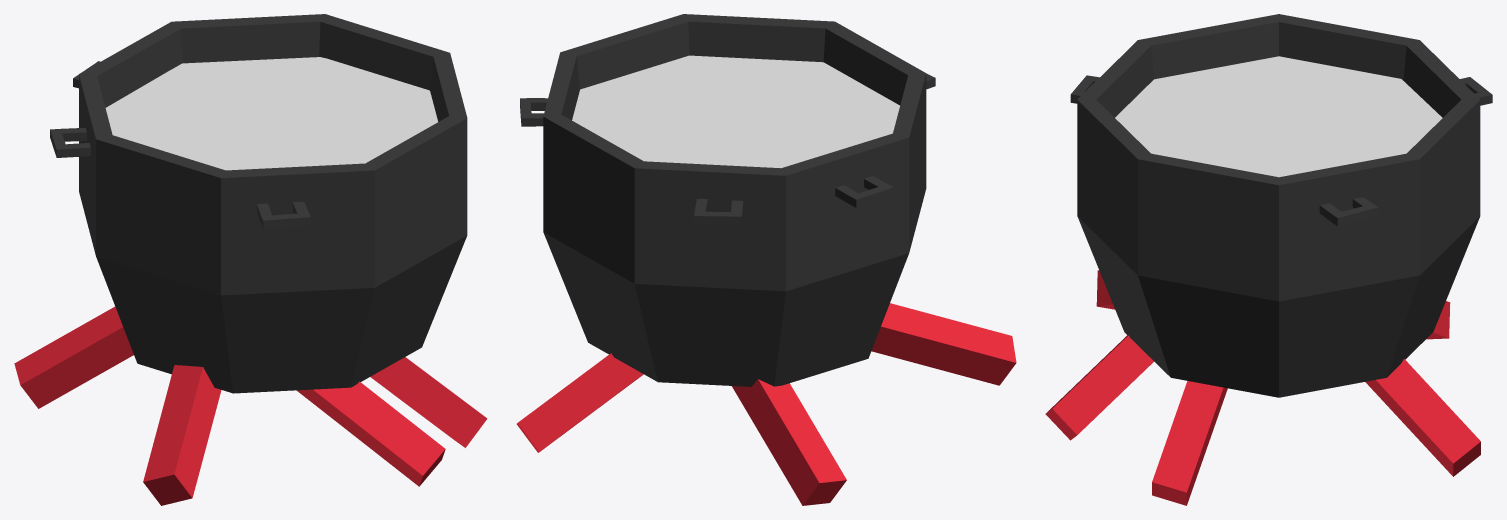
The model's file is tungku.fbx.
3 renders of one model, left to right at view 1: azimuth 30°, elevation 25°; view 2: azimuth 150°, elevation 25°; view 3: azimuth 270°, elevation 25°, orthographic.
Visible parts, largest first — view 1: Cube.189, Cube.186; view 2: Cube.189, Cube.186; view 3: Cube.189, Cube.186.
Boxes of the visible parts, x1,y1,x2,y2 form: Cube.189: (14,14,487,505); Cube.186: (105,57,437,170); Cube.189: (516,14,1016,505); Cube.186: (572,55,899,168); Cube.189: (1045,14,1492,505); Cube.186: (1115,56,1442,177).
Size of the model in its own units: 165 by 137 by 163.
